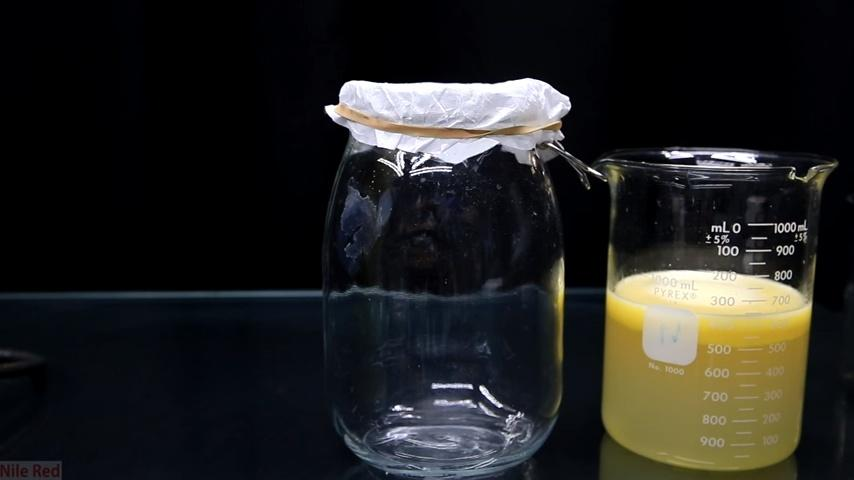Beaker: (299, 63, 580, 476), (585, 116, 839, 467)
